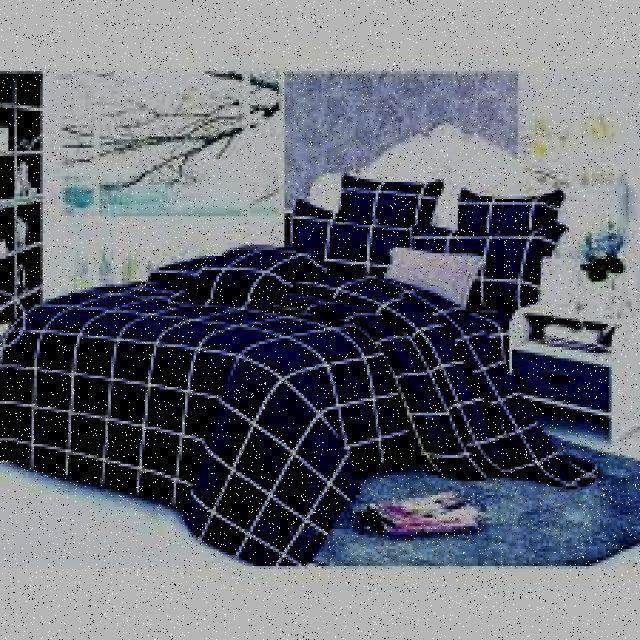bed: (31, 153, 568, 466)
